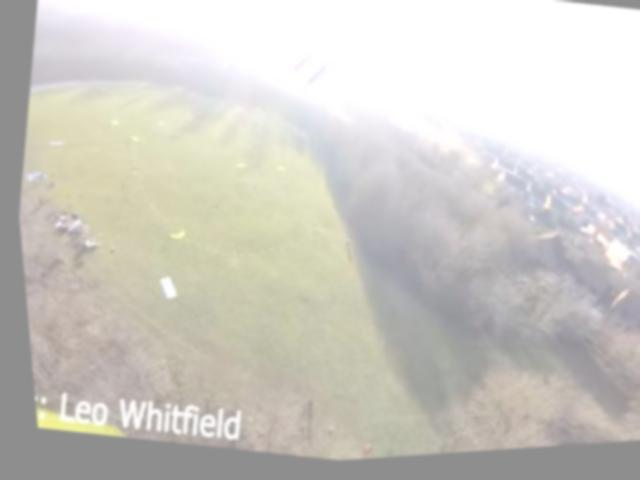uav: (275, 9, 381, 115)
